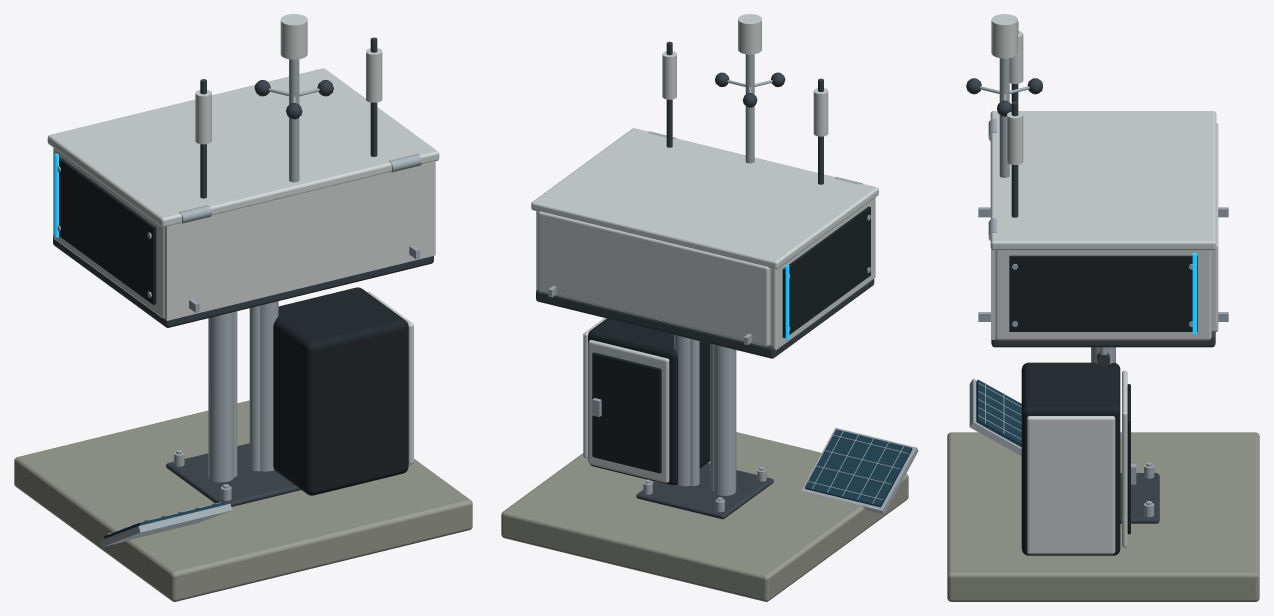
The model's file is sentinel.glb.
3 renders of one model, left to right at view 1: azimuth 30°, elevation 25°; view 2: azimuth 150°, elevation 25°; view 3: azimuth 270°, elevation 25°, orthographic. The views are drawn at different scales.
Parts seen in each view (by area): view 1: Ceramic white powder coat (×3), Concrete, Graphite panels (×2), Brushed steel (×4), Dark aluminum (×3); view 2: Ceramic white powder coat (×4), Concrete, Graphite panels (×2), Brushed steel (×4), Dark aluminum (×2), Camera glass; view 3: Ceramic white powder coat (×4), Concrete, Graphite panels (×2), Dark aluminum (×3), Brushed steel (×4), Camera glass.
Boxes of the visible parts, bbox=[...] form: Ceramic white powder coat (×3): bbox=[47, 14, 439, 464]; Concrete: bbox=[14, 400, 472, 601]; Graphite panels (×2): bbox=[59, 156, 408, 495]; Brushed steel (×4): bbox=[57, 59, 421, 546]; Dark aluminum (×3): bbox=[53, 37, 433, 506]; Ceramic white powder coat (×4): bbox=[531, 14, 878, 482]; Concrete: bbox=[501, 432, 908, 601]; Graphite panels (×2): bbox=[588, 206, 870, 485]; Brushed steel (×4): bbox=[592, 54, 918, 514]; Dark aluminum (×2): bbox=[536, 41, 874, 519]; Camera glass: bbox=[805, 429, 912, 507]; Ceramic white powder coat (×4): bbox=[990, 14, 1218, 554]; Concrete: bbox=[947, 432, 1259, 601]; Graphite panels (×2): bbox=[1009, 255, 1197, 555]; Dark aluminum (×3): bbox=[966, 21, 1215, 523]; Brushed steel (×4): bbox=[969, 58, 1228, 517]; Camera glass: bbox=[976, 379, 1021, 446].
Size of the model in its own units: 2.46 by 3.83 by 2.12.
